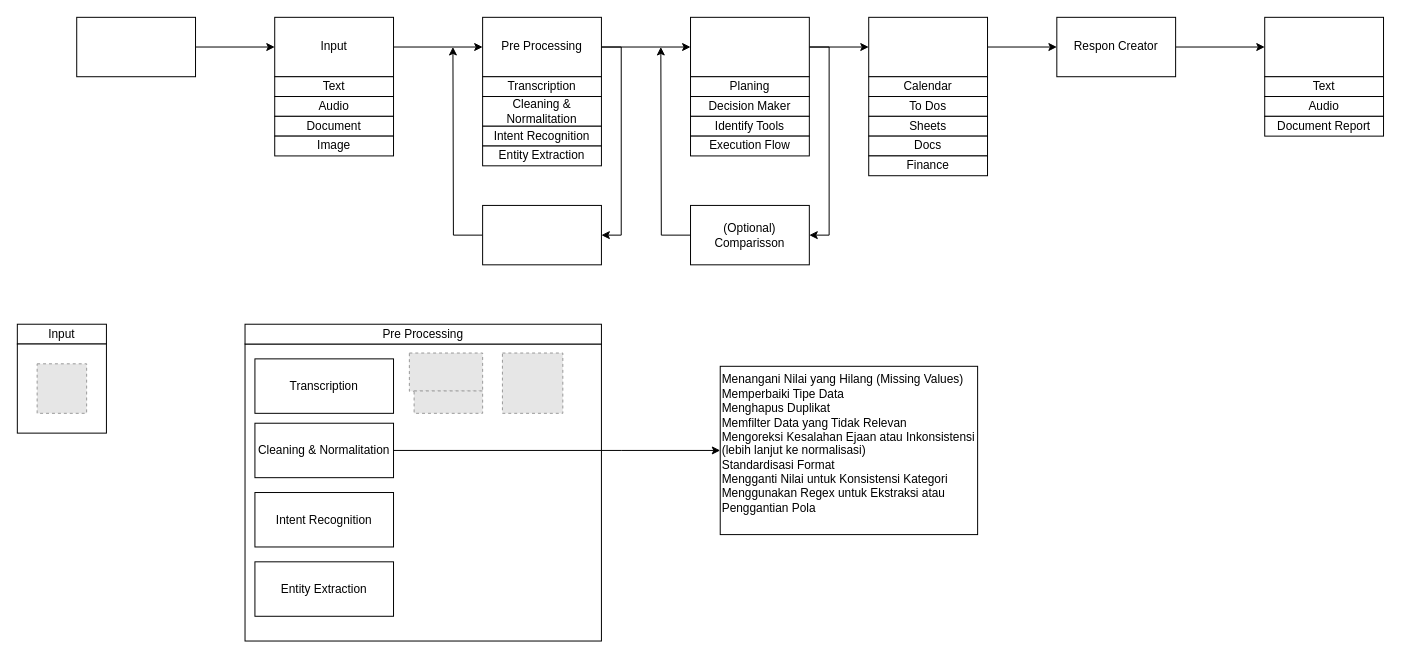
Image size: 1401x658. Some labels were removed from this diagram. Grey dashed boxes stand in for pictures. Here are the shapes that lost their labels. From the top down, the centre of each, then its label:
point 136,46: Start
point 749,46: Process
point 928,46: Agent
point 1324,46: Output
point 541,234: Cleareance
